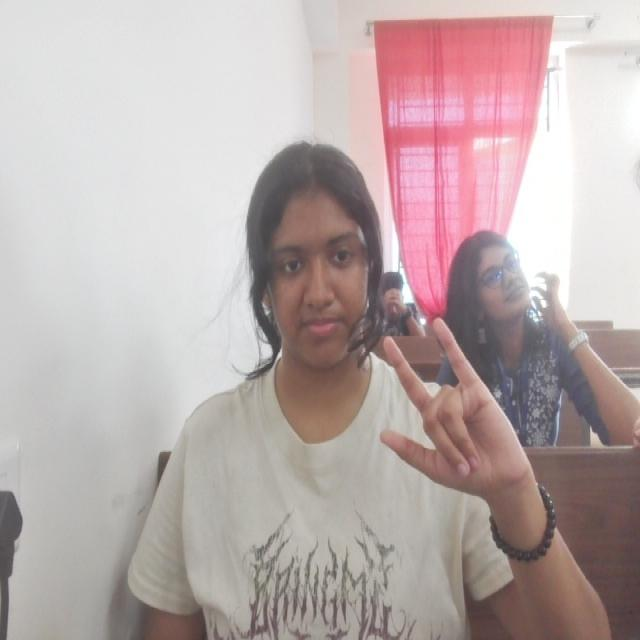iloveyou: (380, 312, 525, 496)
